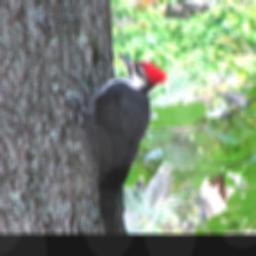Woodpecker: (65, 51, 170, 233)
